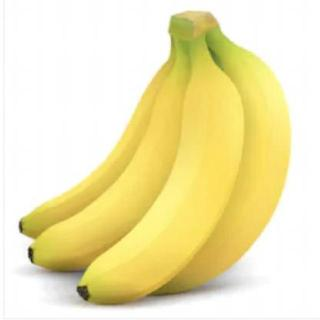banana: (75, 68, 244, 306), (138, 50, 294, 298), (25, 70, 211, 277), (16, 62, 192, 246)
